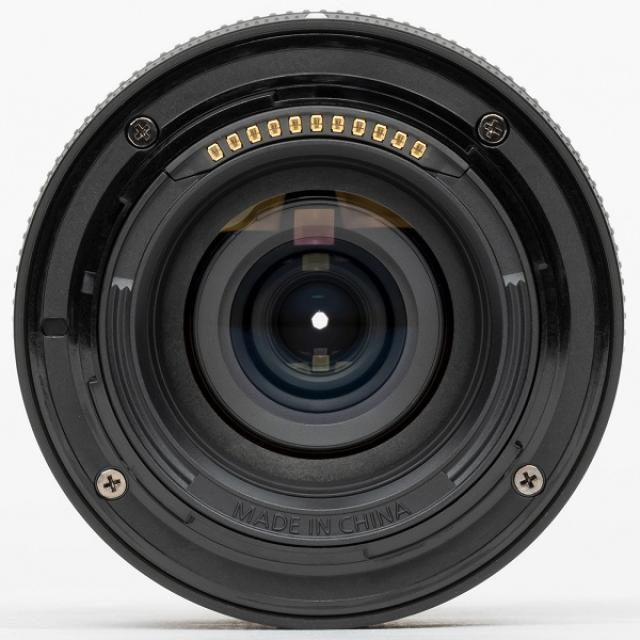hidden camera: (13, 20, 631, 639)
